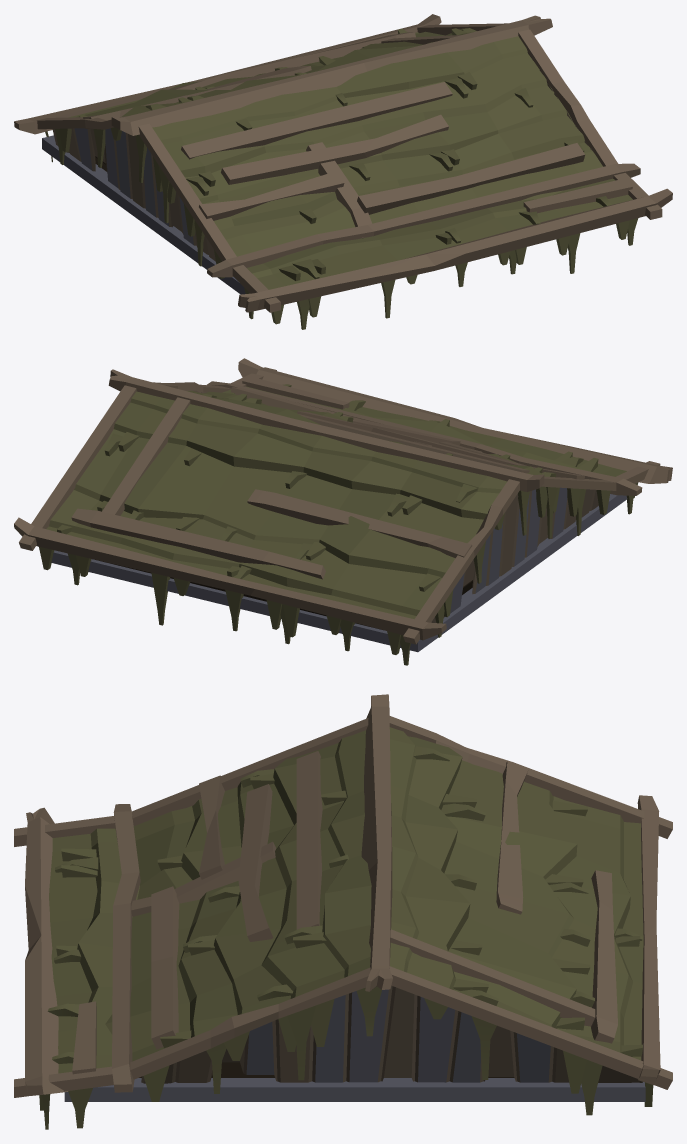
The model's file is SM_Bld_Shanty_Roof_01.glb.
3 renders of one model, top to bottom at view 1: azimuth 30°, elevation 25°; view 2: azimuth 150°, elevation 25°; view 3: azimuth 270°, elevation 25°, orthographic. The views are drawn at different scales.
Parts seen in each view (by area): view 1: SM_Bld_Shanty_Roof_01; view 2: SM_Bld_Shanty_Roof_01; view 3: SM_Bld_Shanty_Roof_01.
Boxes of the visible parts, x1,y1,x2,y2 form: SM_Bld_Shanty_Roof_01: [14, 14, 672, 329]; SM_Bld_Shanty_Roof_01: [14, 358, 672, 665]; SM_Bld_Shanty_Roof_01: [14, 694, 672, 1129].
Bounding box in the file's own units: 0.0594 × 0.0189 × 0.0579.
